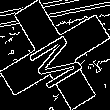M_NE: (22, 22, 88, 88)
